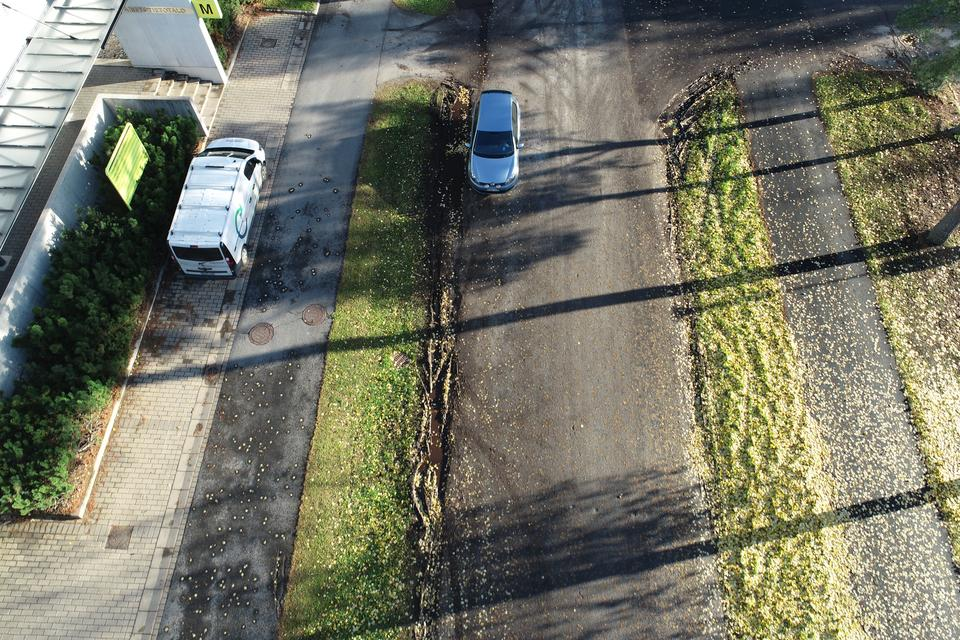intersection: (389, 0, 936, 182)
